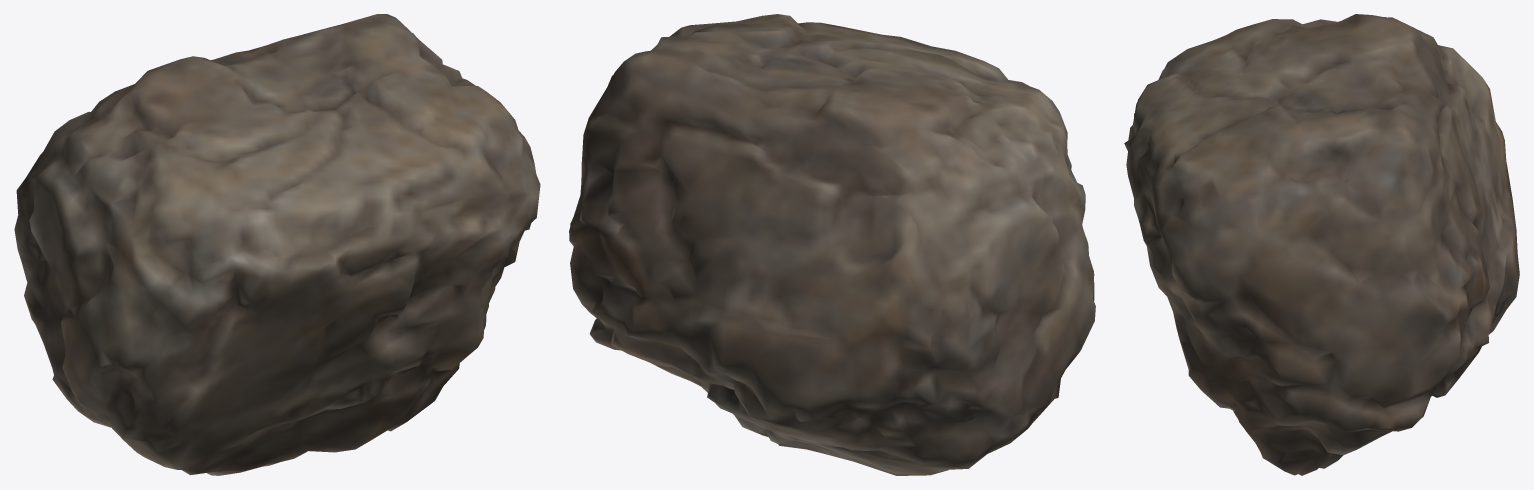
Rendered from Rock_03_a.fbx.
3 views of the same model, side by side, from view 1: azimuth 30°, elevation 25°; view 2: azimuth 150°, elevation 25°; view 3: azimuth 270°, elevation 25° (orthographic). The views are drawn at different scales.
Parts seen in each view (by area): view 1: Rock_03; view 2: Rock_03; view 3: Rock_03.
Part boxes in pixels (x1,y1,x2,y2): Rock_03: [14, 14, 540, 475]; Rock_03: [569, 14, 1095, 475]; Rock_03: [1124, 14, 1519, 475].
Size of what is drawn, in the model's own units: 137 by 119 by 113.
